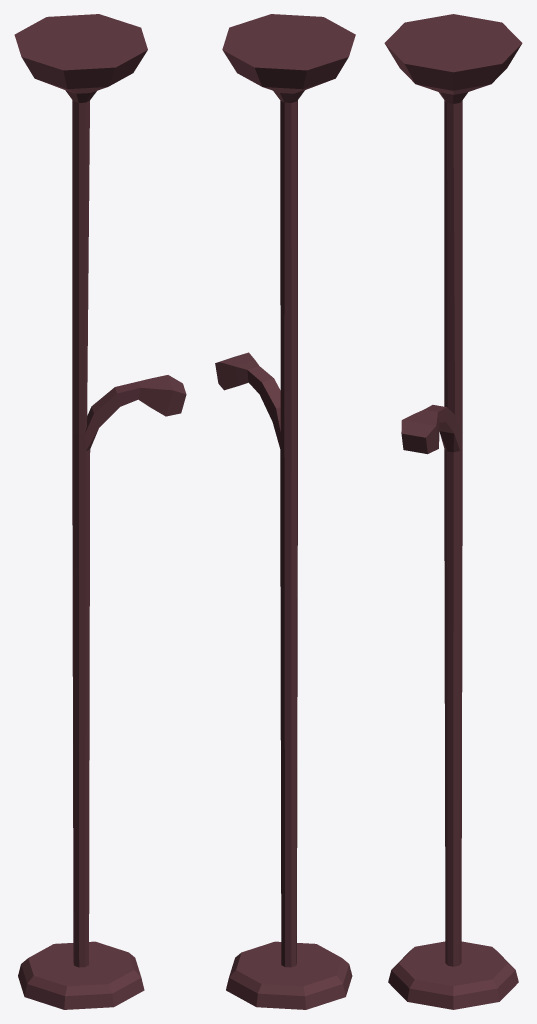
Rendered from lamp-floor-tall-b.fbx.
3 views of the same model, side by side, from view 1: azimuth 30°, elevation 25°; view 2: azimuth 150°, elevation 25°; view 3: azimuth 270°, elevation 25° (orthographic).
Visible parts, largest first — view 1: lamp-floor-tall-b; view 2: lamp-floor-tall-b; view 3: lamp-floor-tall-b.
Part boxes in pixels (x1,y1,x2,y2): lamp-floor-tall-b: (14, 14, 186, 1009); lamp-floor-tall-b: (215, 14, 355, 1009); lamp-floor-tall-b: (384, 14, 522, 1009).
Size of the model in its own units: 0.2844 by 1.73 by 0.2305.
